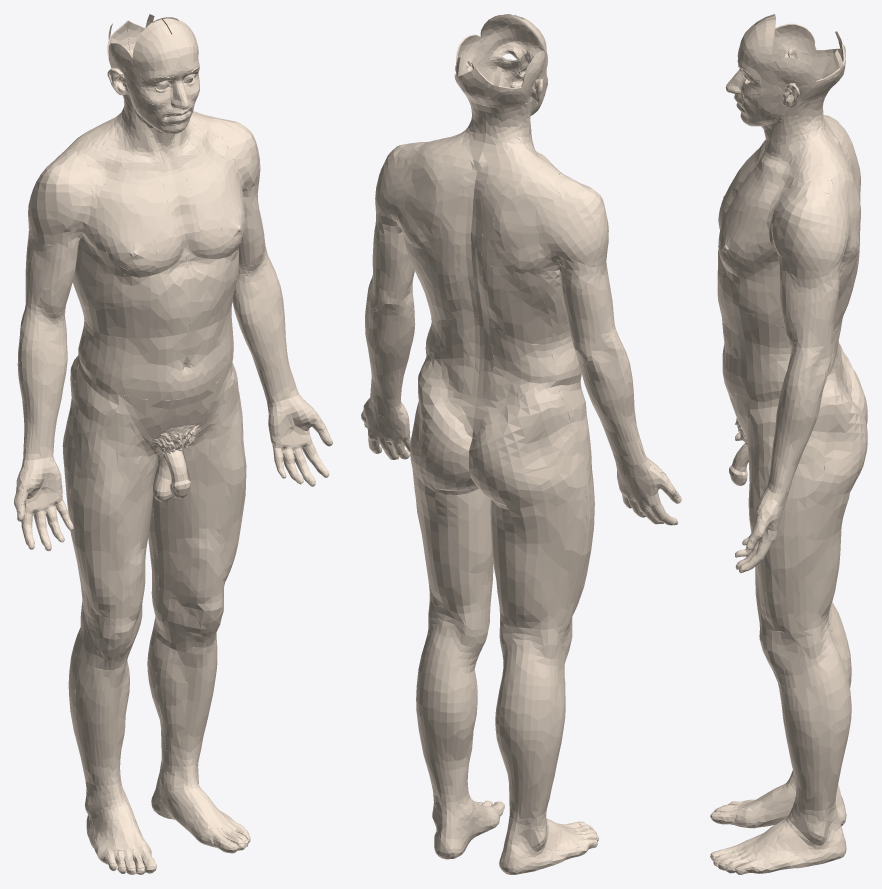
File: skin2.glb
3 renders of one model, left to right at view 1: azimuth 30°, elevation 25°; view 2: azimuth 150°, elevation 25°; view 3: azimuth 270°, elevation 25°, orthographic.
Visible parts, largest first — view 1: skin.glb; view 2: skin.glb; view 3: skin.glb.
Part boxes in pixels (<box>): skin.glb: <box>14,14,332,874</box>; skin.glb: <box>361,14,681,874</box>; skin.glb: <box>710,14,867,874</box>.
Size of the model in its own units: 0.6802 by 1.7 by 0.2942.
